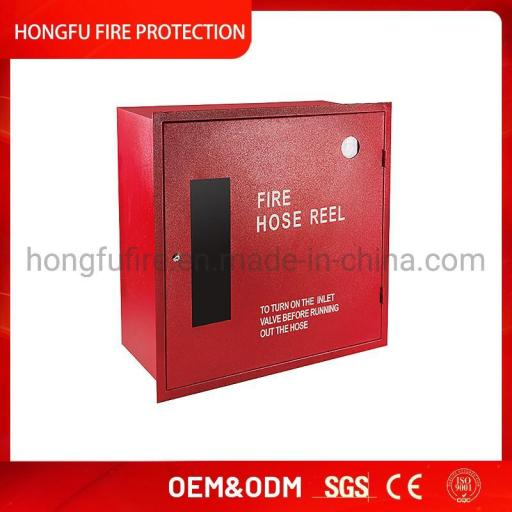fire_hose: (112, 94, 398, 403)
